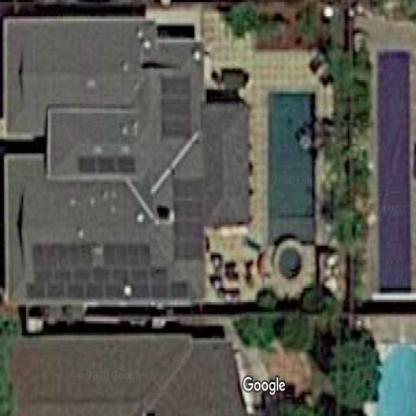solar_panel: (30, 235, 190, 303), (170, 165, 207, 274), (158, 67, 194, 150), (70, 151, 142, 179)
swimming_pool: (258, 78, 329, 265), (367, 330, 416, 416)
